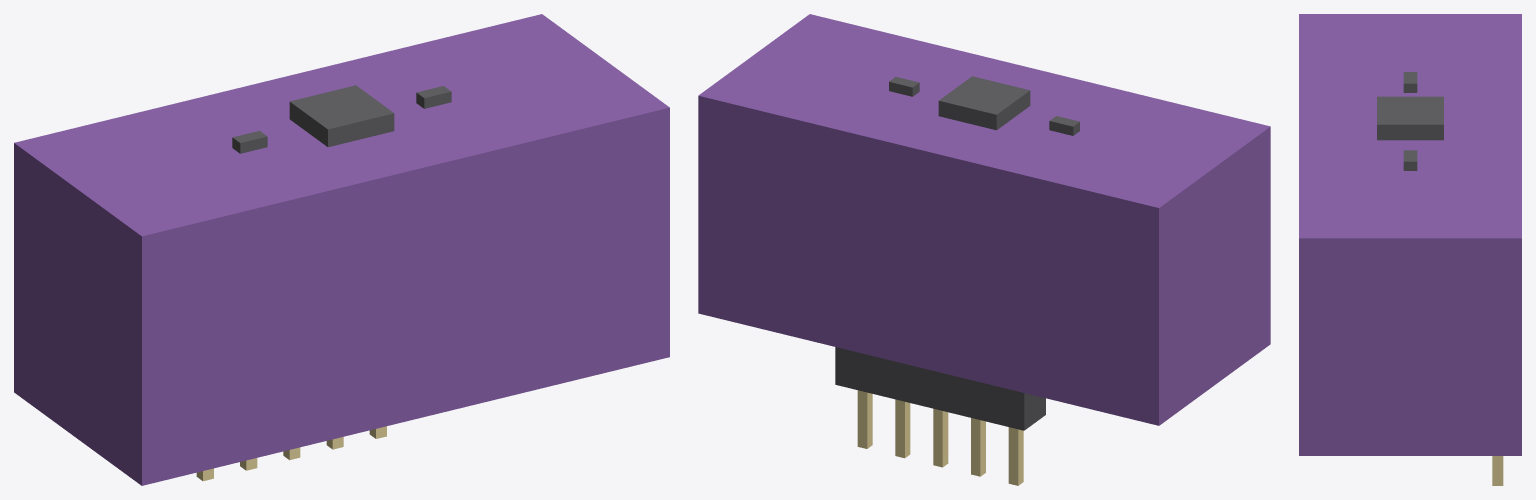
Rendered from acs712.glb.
3 views of the same model, side by side, from view 1: azimuth 30°, elevation 25°; view 2: azimuth 150°, elevation 25°; view 3: azimuth 270°, elevation 25° (orthographic). The views are drawn at different scales.
Parts seen in each view (by area): view 1: acs712-pcb, acs712-ic, acs712-pins; view 2: acs712-pcb, acs712-plastic, acs712-pins, acs712-ic; view 3: acs712-pcb, acs712-ic, acs712-pins.
Boxes of the visible parts, bbox=[...] form: acs712-pcb: bbox=[14, 14, 669, 485]; acs712-ic: bbox=[232, 85, 451, 153]; acs712-pins: bbox=[196, 426, 386, 481]; acs712-pcb: bbox=[698, 14, 1270, 425]; acs712-plastic: bbox=[835, 347, 1045, 430]; acs712-pins: bbox=[857, 390, 1023, 485]; acs712-ic: bbox=[889, 76, 1079, 135]; acs712-pcb: bbox=[1299, 14, 1521, 455]; acs712-ic: bbox=[1377, 72, 1443, 170]; acs712-pins: bbox=[1492, 456, 1503, 485].
Bounding box in the file's own units: 0.031 × 0.0216 × 0.013.
